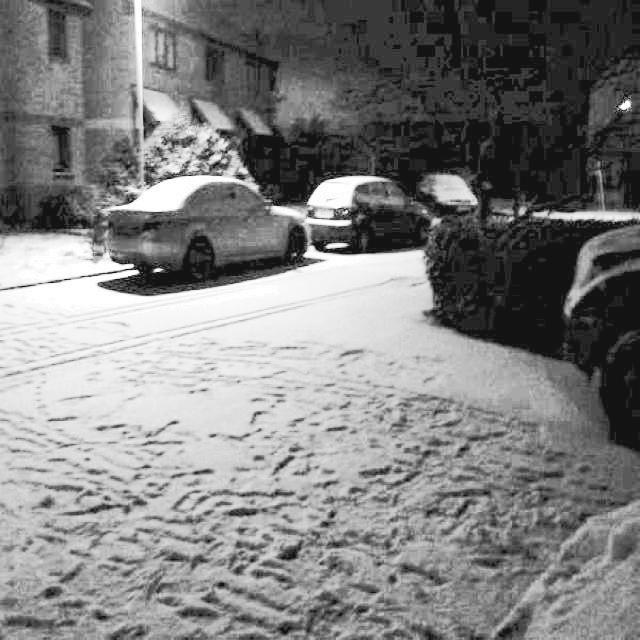Car: (105, 165, 307, 282), (558, 216, 640, 412), (305, 165, 437, 254), (406, 159, 478, 231)
